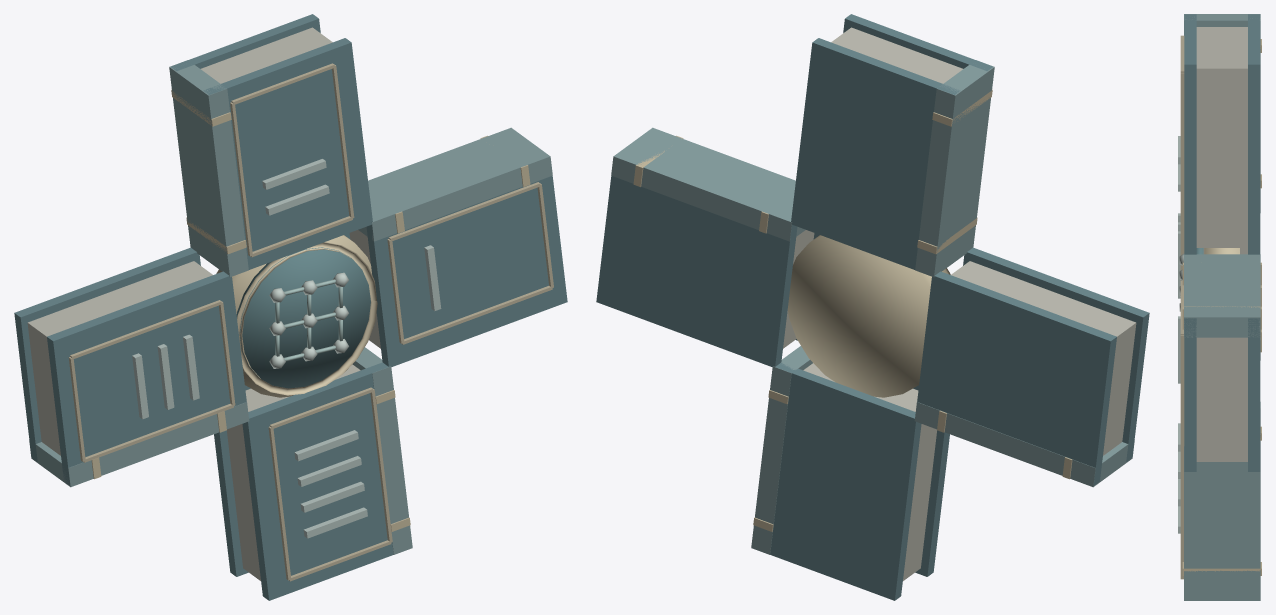
Rendered from ART-60.glb.
3 renders of one model, left to right at view 1: azimuth 30°, elevation 25°; view 2: azimuth 150°, elevation 25°; view 3: azimuth 270°, elevation 25°, orthographic. The views are drawn at different scales.
Visible parts, largest first — view 1: world; view 2: world; view 3: world.
Boxes of the visible parts, x1,y1,x2,y2 form: world: (14,14,567,600); world: (596,14,1149,600); world: (1178,14,1261,600).
Bounding box in the file's own units: 2 × 2 × 0.2897.
